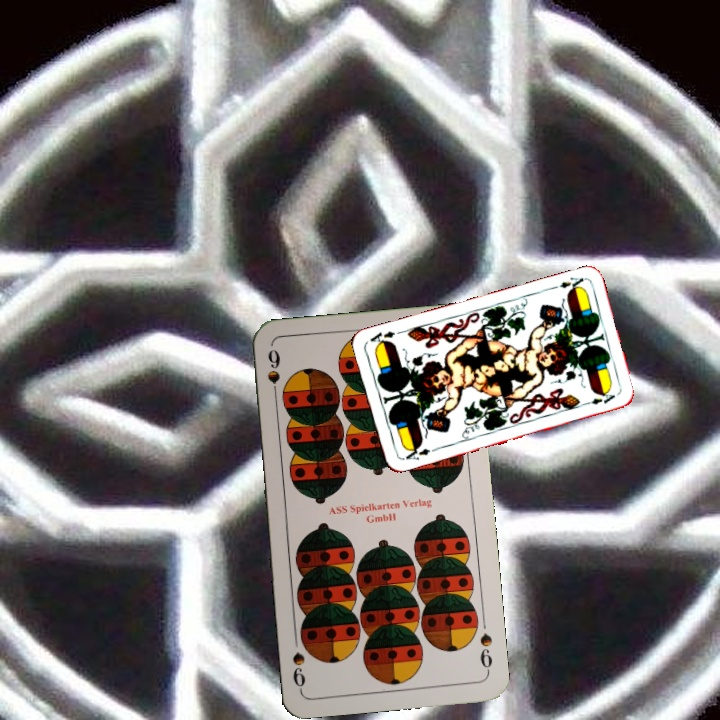EA: (547, 273, 587, 294), (402, 441, 433, 463)
S9: (263, 345, 283, 404), (475, 629, 495, 676)
